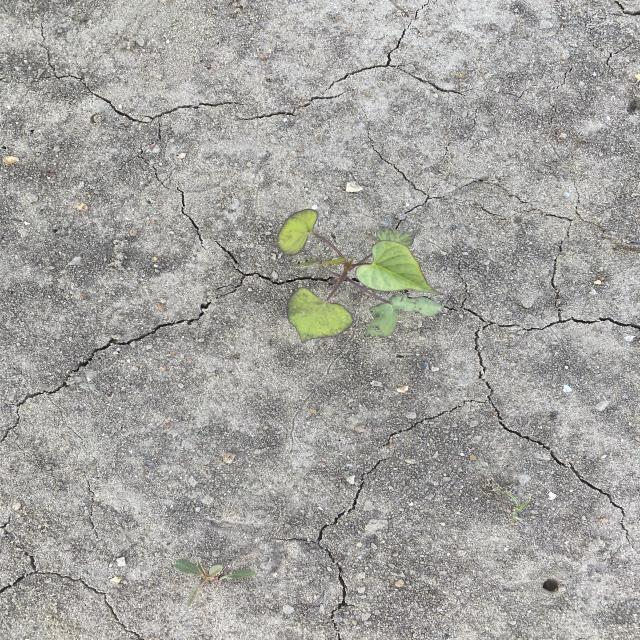MorningGlory: (268, 208, 449, 346)
Waterhemp: (174, 553, 257, 607)
